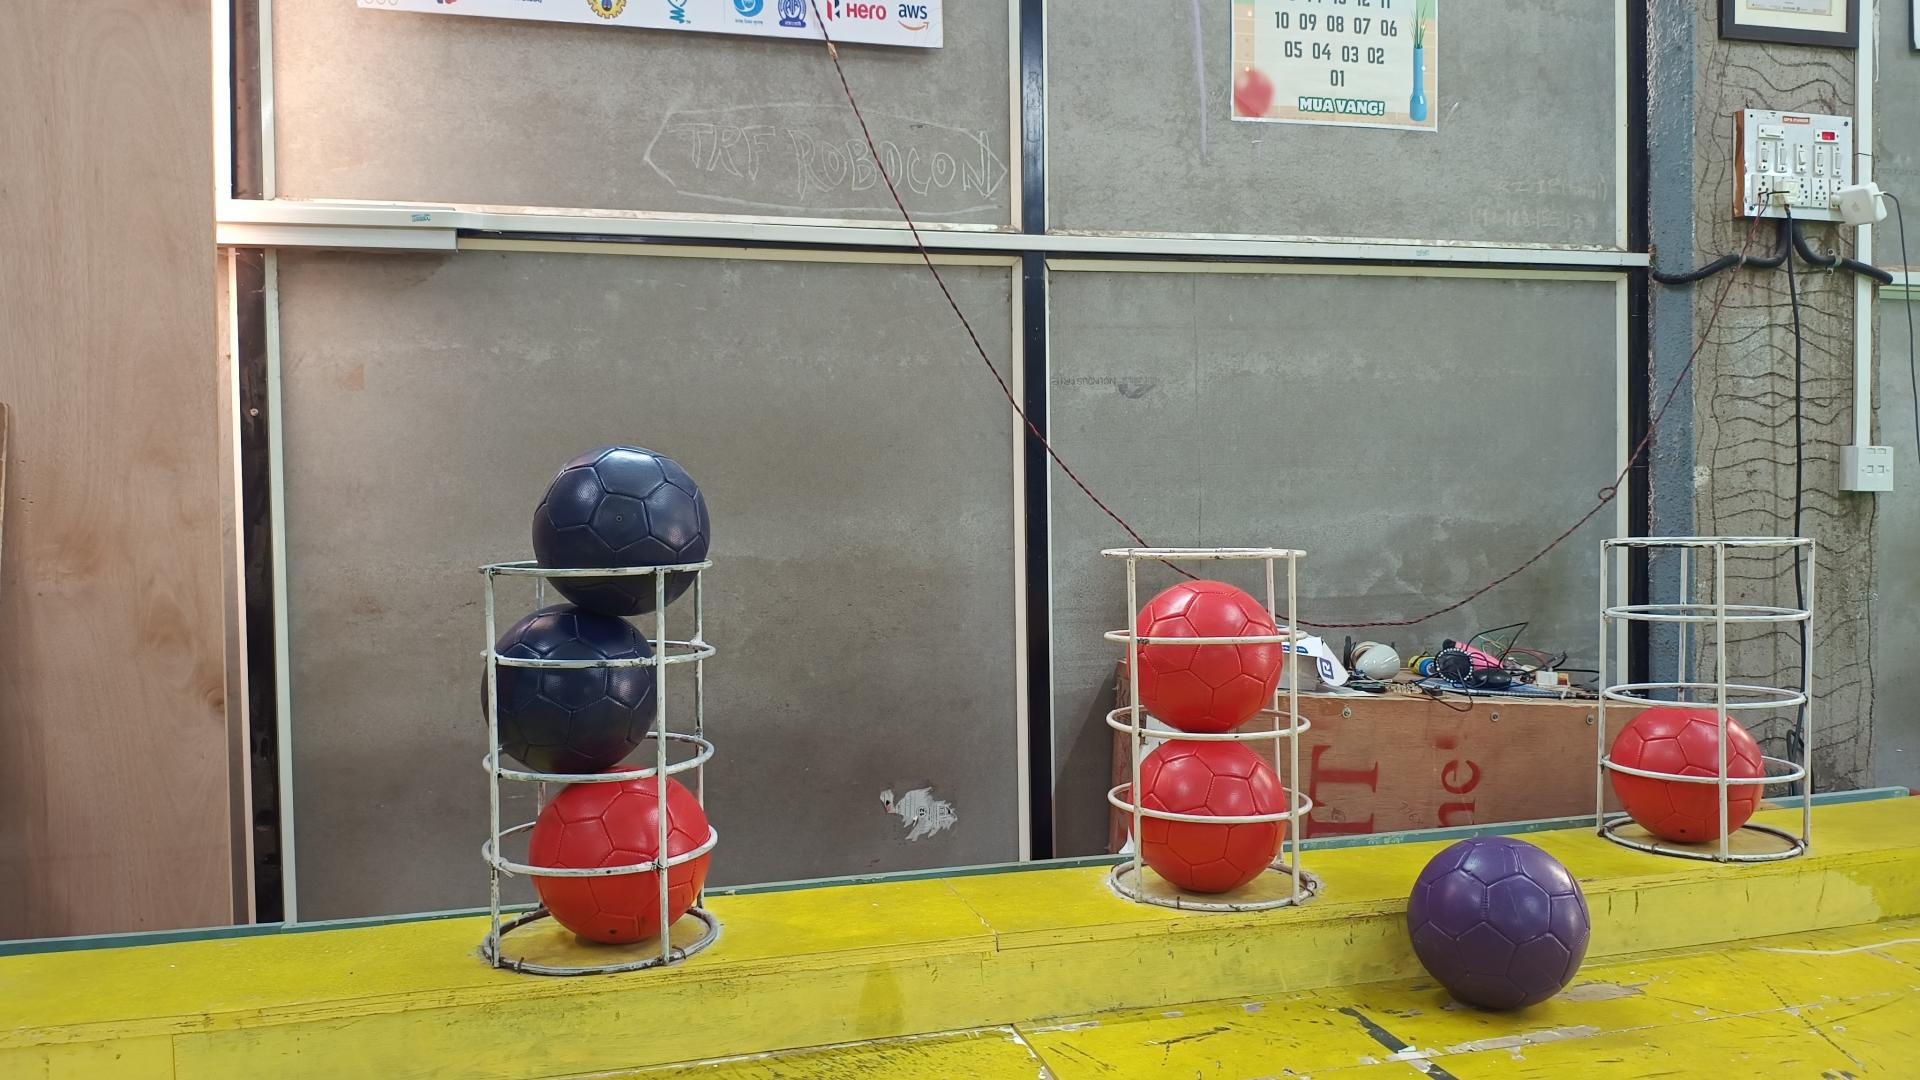dhoka: (533, 446, 708, 618), (480, 604, 657, 773)
laale: (529, 777, 716, 945), (1133, 738, 1290, 893), (1129, 578, 1283, 732), (1605, 705, 1766, 844), (1129, 803, 1133, 806)
